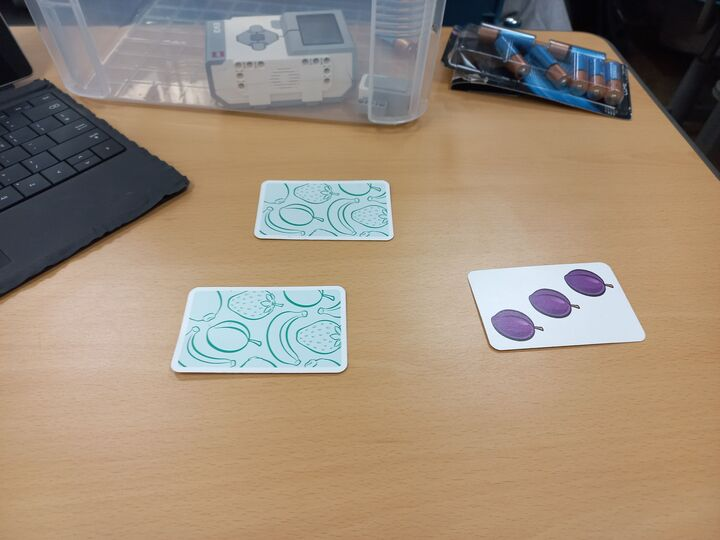plum3: (464, 261, 648, 352)
